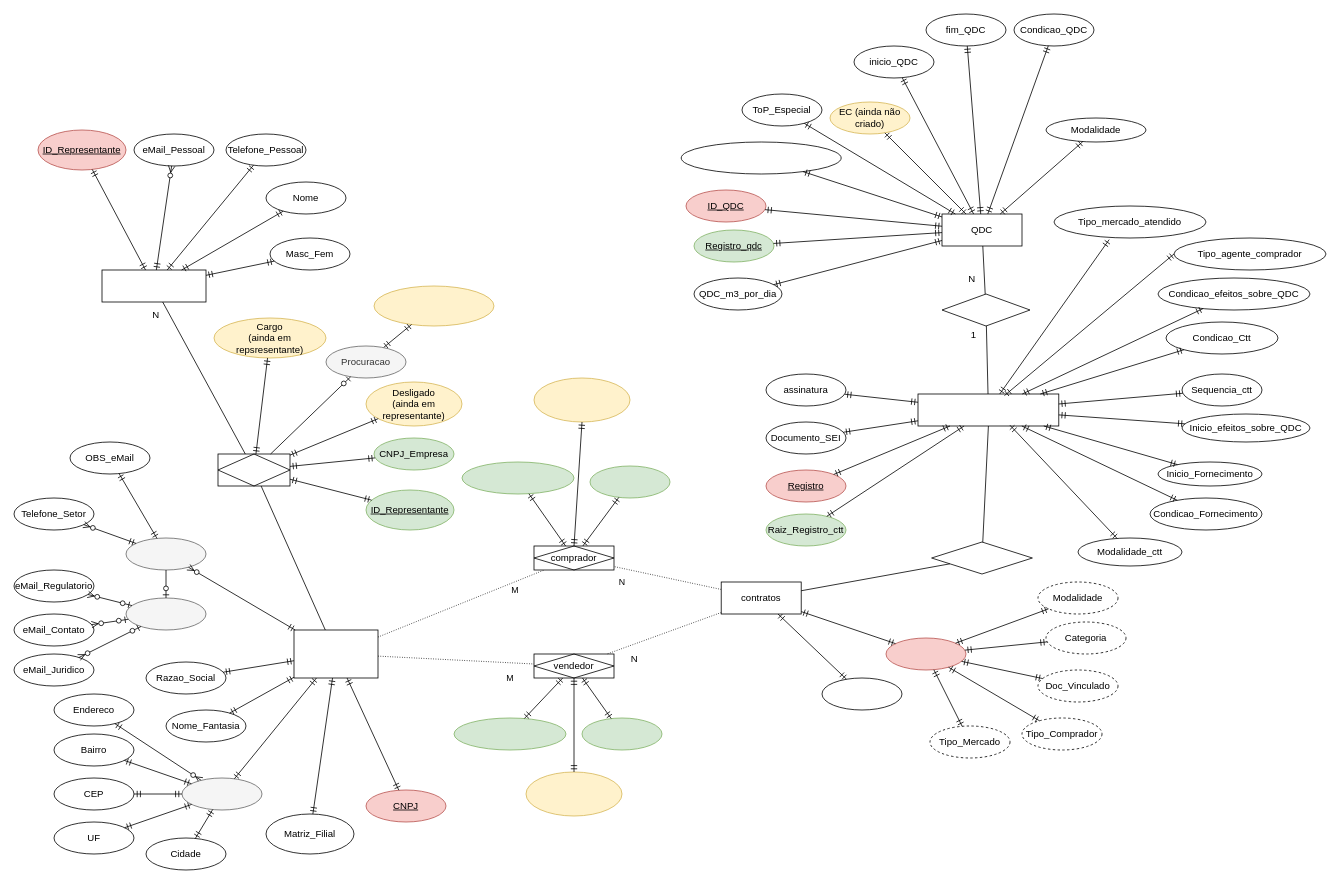
Image size: 1340x884. Some labels were removed from this diagram. The centre of each missing label's shape, as x and y in pixels:
"agente" goes at point (335, 653).
"CNPJ_Comprador" goes at point (629, 481).
"CNPJ_Vendedor" goes at point (621, 733).
"Comunicação" goes at point (165, 553).
"contratos_aditivos_detalhes" goes at point (988, 409).
"Desdobra" goes at point (981, 557).
"E-mail_Setor" goes at point (165, 613).
"ID_Raiz_Registro_cmp" goes at point (517, 477).
"ID_Raiz_Registro_vdd" goes at point (509, 733).
"Local" goes at point (221, 793).
"Possui" goes at point (985, 309).
"Processo_SEI" goes at point (861, 693).
"Procuracao_Validade (ainda em representante" goes at point (433, 305).
"Raiz_Registro" goes at point (925, 653).
"Registro_cmp (criar)" goes at point (581, 399).
"Registro_vdd (criar)" goes at point (573, 793).
"representa" goes at point (253, 469).
"Representante" goes at point (153, 285).
"TOP_QDC_Media_diaria_no_mes" goes at point (760, 157).
